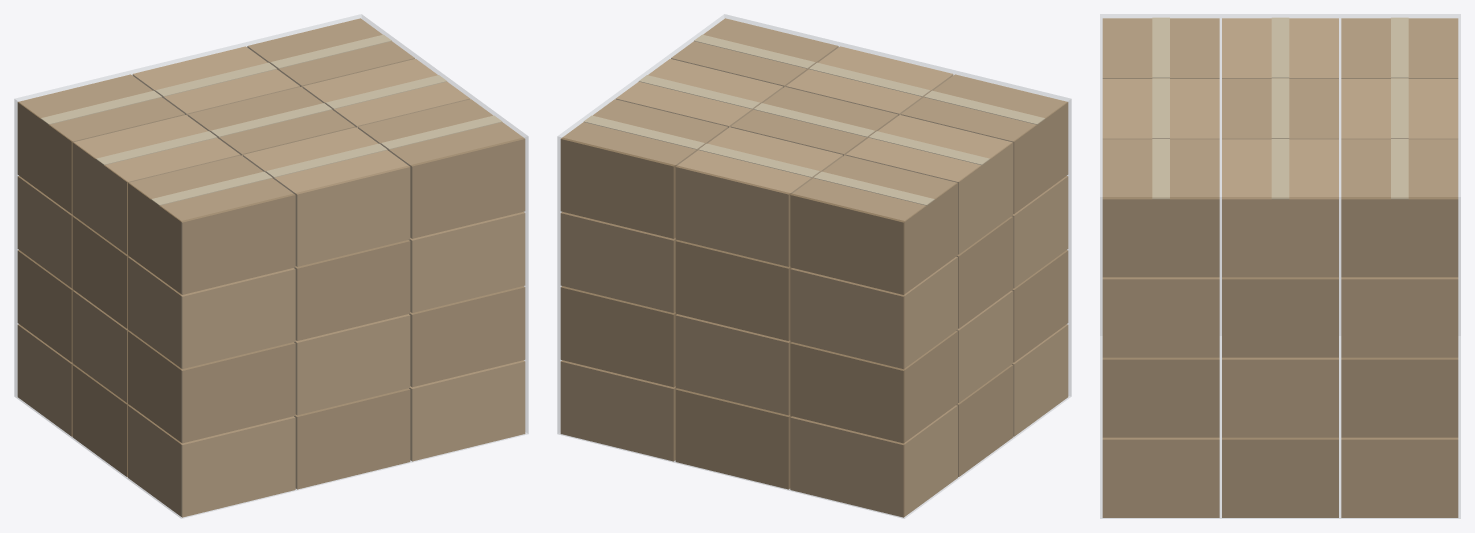
Rendered from load-gma-wrapped-cartons.glb.
3 views of the same model, side by side, from view 1: azimuth 30°, elevation 25°; view 2: azimuth 150°, elevation 25°; view 3: azimuth 270°, elevation 25° (orthographic). The views are drawn at different scales.
Parts seen in each view (by area): view 1: load-wrapped-cartons; view 2: load-wrapped-cartons; view 3: load-wrapped-cartons.
Part boxes in pixels (x1,y1,x2,y2): load-wrapped-cartons: [14, 14, 528, 518]; load-wrapped-cartons: [557, 14, 1071, 518]; load-wrapped-cartons: [1100, 14, 1460, 518].
Size of the model in its own units: 1.22 by 1 by 1.02.
